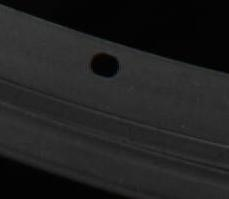holes: (90, 51, 119, 77)
